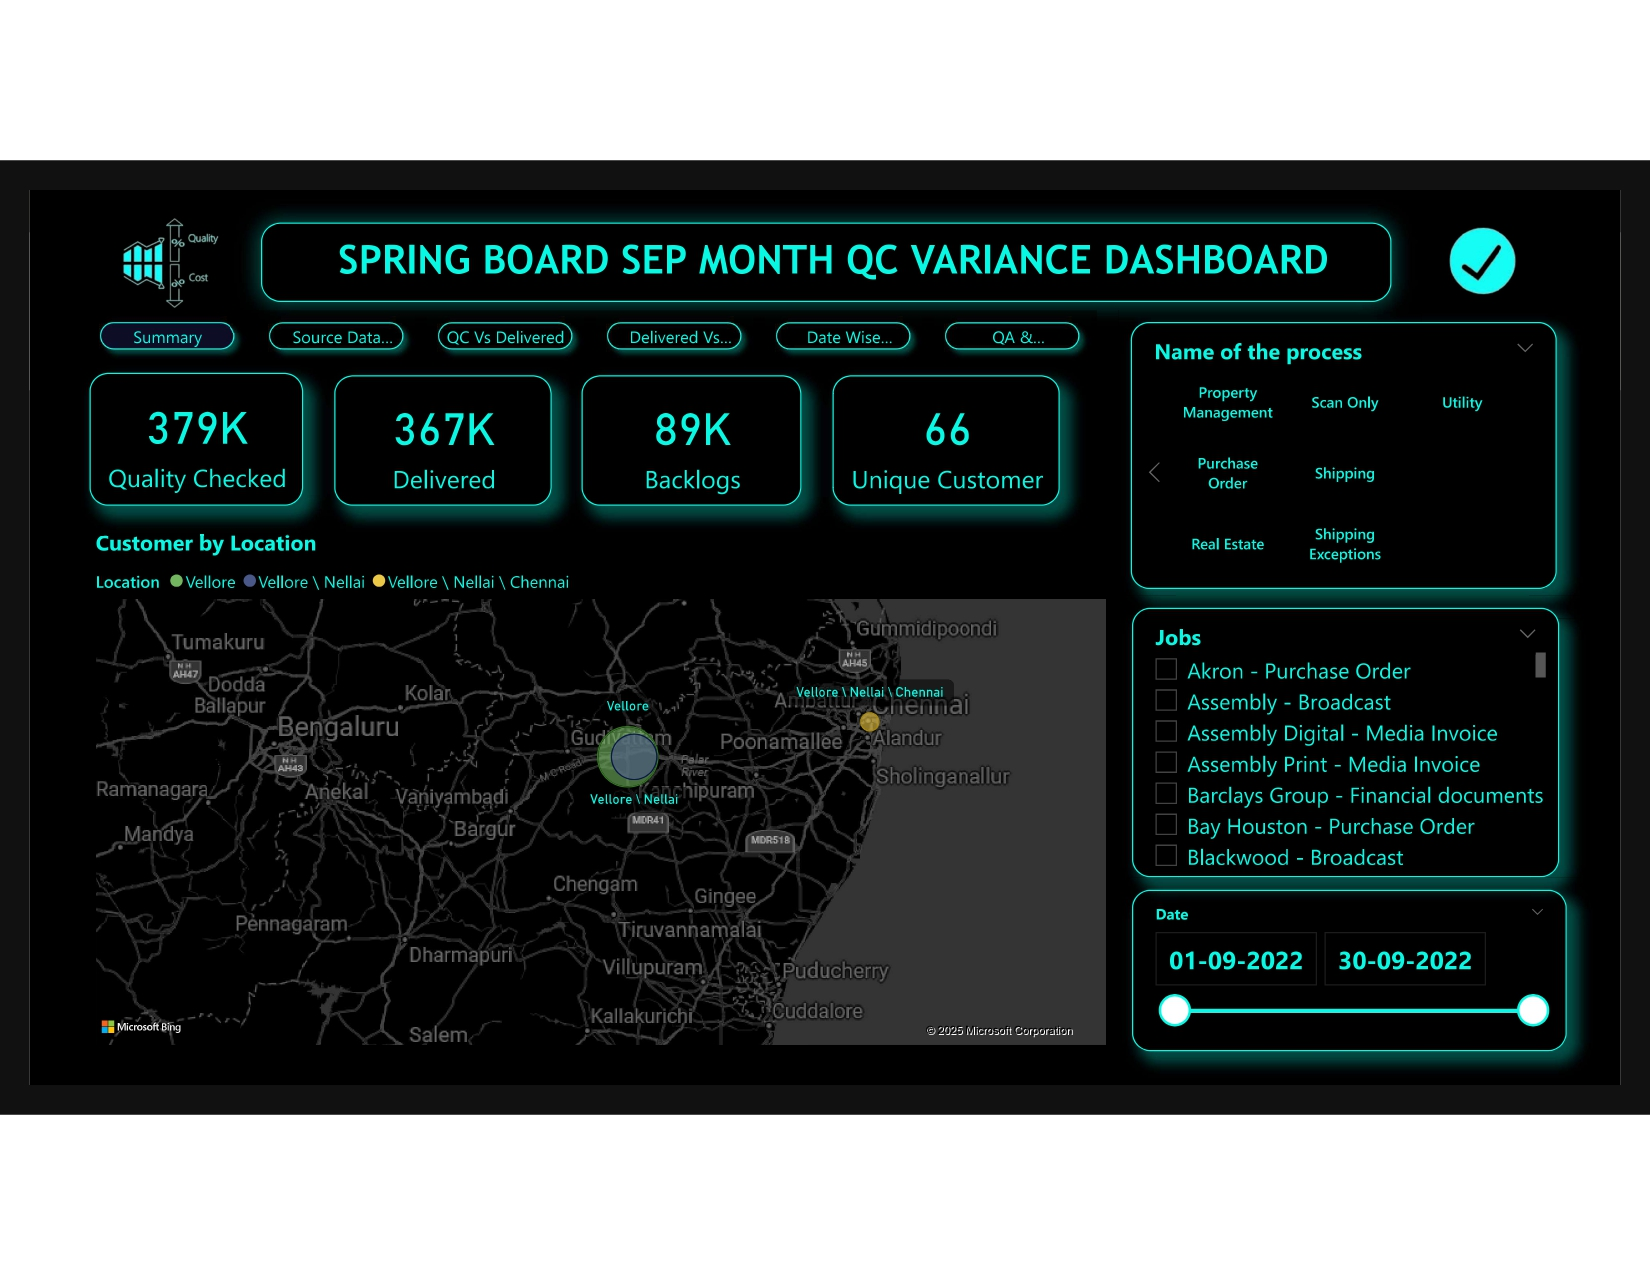

Layout of this report page (visuals, bound fields, positions):
{"tool":"powerbi","page":{"name":"Summary","canvas":[1280,720],"ordinal":0},"visuals":[{"type":"card","fields":{"Values":["Sep.Capacity of QC / Sampling per day"]},"box":[47.6,147.2,172,106.5],"z":0,"group":"g1"},{"type":"textbox","box":[185.7,25.9,910,63.9],"z":0},{"type":"card","fields":{"Values":["Sep.Delivered"]},"box":[244.3,148.9,175.4,105.5],"z":1000,"group":"g1"},{"type":"slicer","title":"Name of the Process","fields":{"Values":["Sep.Name of the process"]},"box":[885.9,105.5,343.4,215.5],"z":1000},{"type":"card","fields":{"Values":["Sep.Backlog (Error)"]},"box":[443.5,148.9,176.9,105.5],"z":2000,"group":"g1"},{"type":"slicer","title":"Jobs","fields":{"Values":["Sep.Jobs"]},"box":[887.4,335.9,343.4,217],"z":2000},{"type":"card","fields":{"Values":["Sep.Name of End Customer"]},"box":[645.6,148.9,182.8,105.5],"z":3000,"group":"g1"},{"type":"slicer","title":"Jobs","fields":{"Values":["Sep.Date"]},"box":[887.4,563.3,349.3,129.3],"z":3000},{"type":"map","title":"Customer by Location","fields":{"Category":["Sep.Location","Sep.Manager @ Springbord"],"Series":["Sep.Location"],"Size":["Sep.Name of End Customer"]},"box":[47.6,270.5,823.5,422.1],"z":4000},{"type":"group","id":"g1","title":"Group 1","box":[47.6,147.2,780.4,107],"z":5000},{"type":"pageNavigator","box":[47.6,96.6,811.6,40.1],"z":6000},{"type":"image","box":[1110.3,17.8,120.4,78.8],"z":6001},{"type":"image","box":[47.6,14.9,133.8,87.7],"z":6002}]}

Visuals, with their boxes on the page's 1280x720 design canvas (x1, y1, x2, y2). These are canvas units, not pixel positions in the 1650x1275 screenshot, which may show the page scaled, cropped or inside an application window:
card - Sep.Capacity of QC / Sampling per day: [left=48, top=147, right=220, bottom=254]
textbox: [left=186, top=26, right=1096, bottom=90]
card - Sep.Delivered: [left=244, top=149, right=420, bottom=254]
"Name of the Process" slicer: [left=886, top=106, right=1229, bottom=321]
card - Sep.Backlog (Error): [left=444, top=149, right=620, bottom=254]
"Jobs" slicer: [left=887, top=336, right=1231, bottom=553]
card - Sep.Name of End Customer: [left=646, top=149, right=828, bottom=254]
"Jobs" slicer: [left=887, top=563, right=1237, bottom=693]
"Customer by Location" map: [left=48, top=270, right=871, bottom=693]
"Group 1" group: [left=48, top=147, right=828, bottom=254]
pageNavigator: [left=48, top=97, right=859, bottom=137]
image: [left=1110, top=18, right=1231, bottom=97]
image: [left=48, top=15, right=181, bottom=103]
